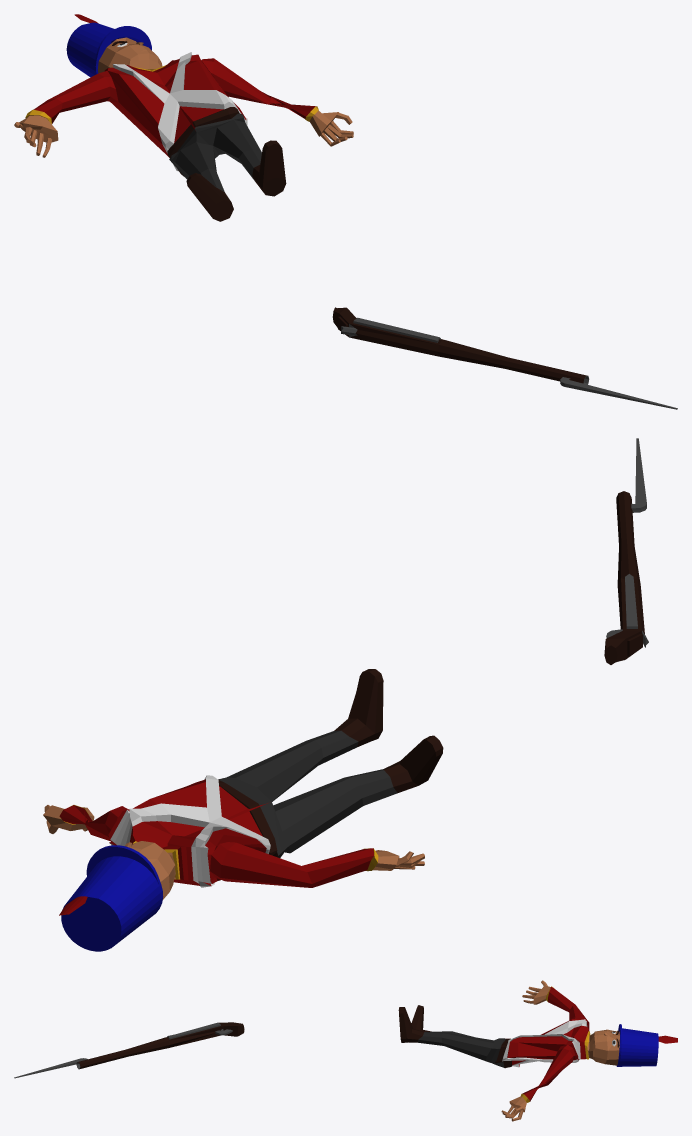
Rendered from frame5.obj.
3 renders of one model, top to bottom at view 1: azimuth 30°, elevation 25°; view 2: azimuth 150°, elevation 25°; view 3: azimuth 270°, elevation 25°, orthographic. The views are drawn at different scales.
Visible parts, largest first — view 1: {Man}_Circle, {Mesket}_Cube.001; view 2: {Man}_Circle, {Mesket}_Cube.001; view 3: {Man}_Circle, {Mesket}_Cube.001.
Part boxes in pixels (x1,y1,x2,y2): {Man}_Circle: [14, 14, 353, 221]; {Mesket}_Cube.001: [332, 307, 677, 409]; {Man}_Circle: [43, 669, 443, 951]; {Mesket}_Cube.001: [604, 438, 648, 664]; {Man}_Circle: [398, 980, 677, 1121]; {Mesket}_Cube.001: [14, 1022, 244, 1078].
Bounding box in the file's own units: 13.48 × 4.16 × 39.14.
